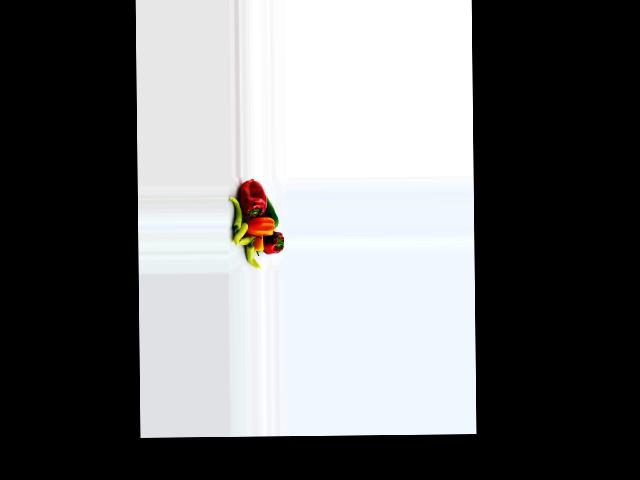bell_pepper: (229, 194, 241, 235)
